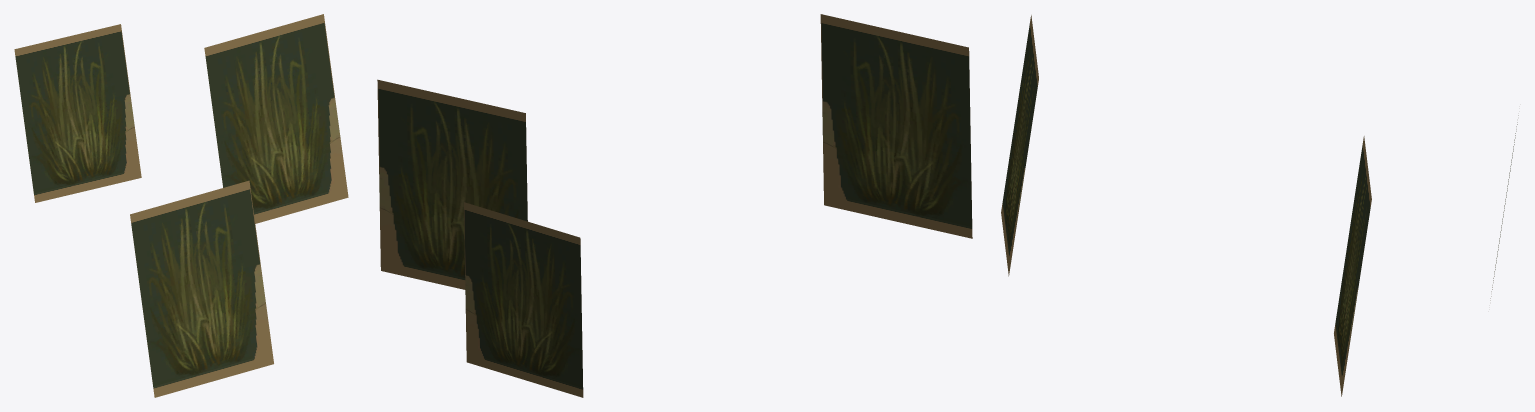
File: object_grass_polys05.fbx
3 renders of one model, left to right at view 1: azimuth 30°, elevation 25°; view 2: azimuth 150°, elevation 25°; view 3: azimuth 270°, elevation 25°, orthographic. The views are drawn at different scales.
Parts seen in each view (by area): view 1: Material_#238683980/town_grass_mat; view 2: Material_#238683980/town_grass_mat; view 3: Material_#238683980/town_grass_mat.
Part boxes in pixels (x1,y1,x2,y2): Material_#238683980/town_grass_mat: (14,14,348,397); Material_#238683980/town_grass_mat: (377,14,972,397); Material_#238683980/town_grass_mat: (1001,15,1518,396).
Bounding box in the file's own units: 4.54 × 2.14 × 5.18.
